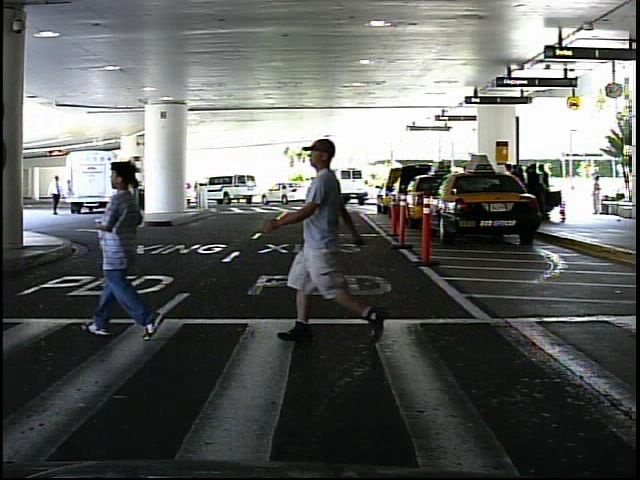person: (288, 124, 383, 347), (93, 156, 184, 348), (47, 171, 65, 221), (588, 172, 607, 218)
